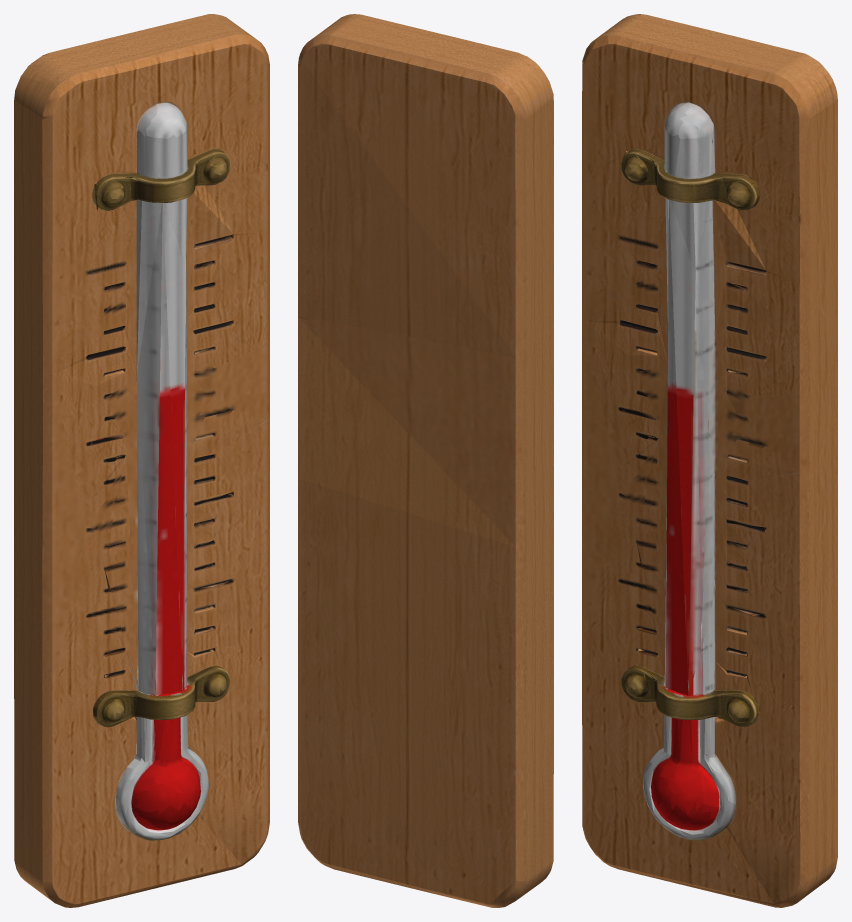
File: thermometer.glb
3 renders of one model, left to right at view 1: azimuth 30°, elevation 25°; view 2: azimuth 150°, elevation 25°; view 3: azimuth 330°, elevation 25°, orthographic.
Visible parts, largest first — view 1: output_unwrapped; view 2: output_unwrapped; view 3: output_unwrapped.
Part boxes in pixels (<box>): output_unwrapped: <box>14,14,269,907</box>; output_unwrapped: <box>298,14,553,907</box>; output_unwrapped: <box>582,14,837,907</box>.
Size of the model in its own units: 0.5431 by 1.9 by 0.231.
1 material, 1 textured.
